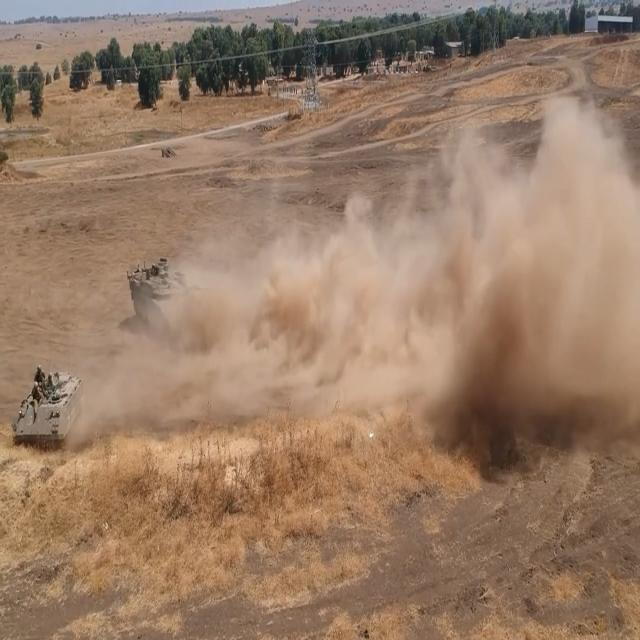tank: (123, 255, 220, 340)
